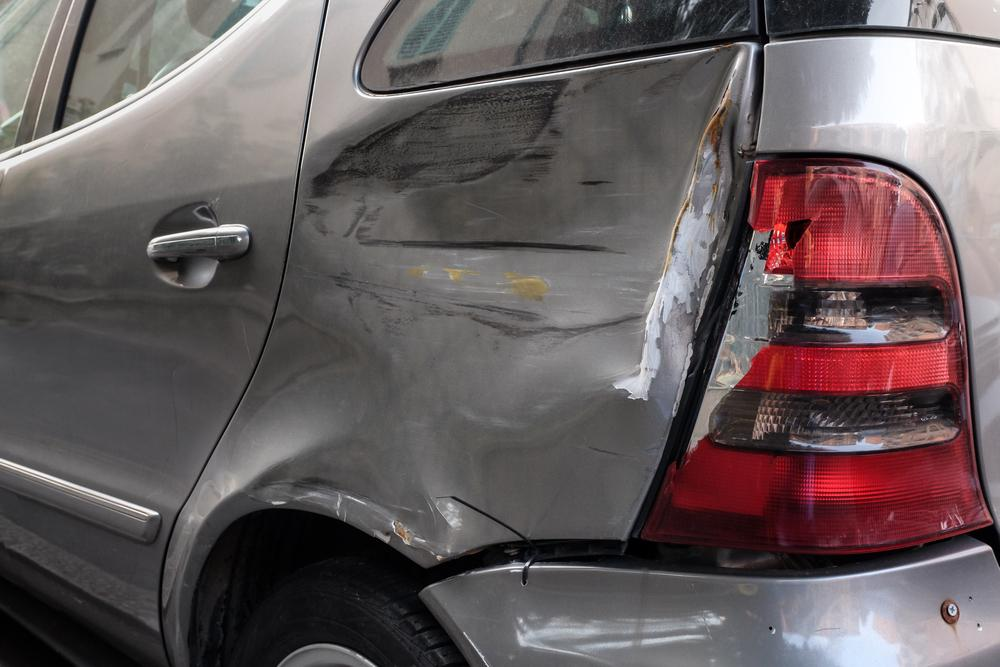dent: (273, 44, 756, 557)
lamp broken: (638, 157, 994, 557)
